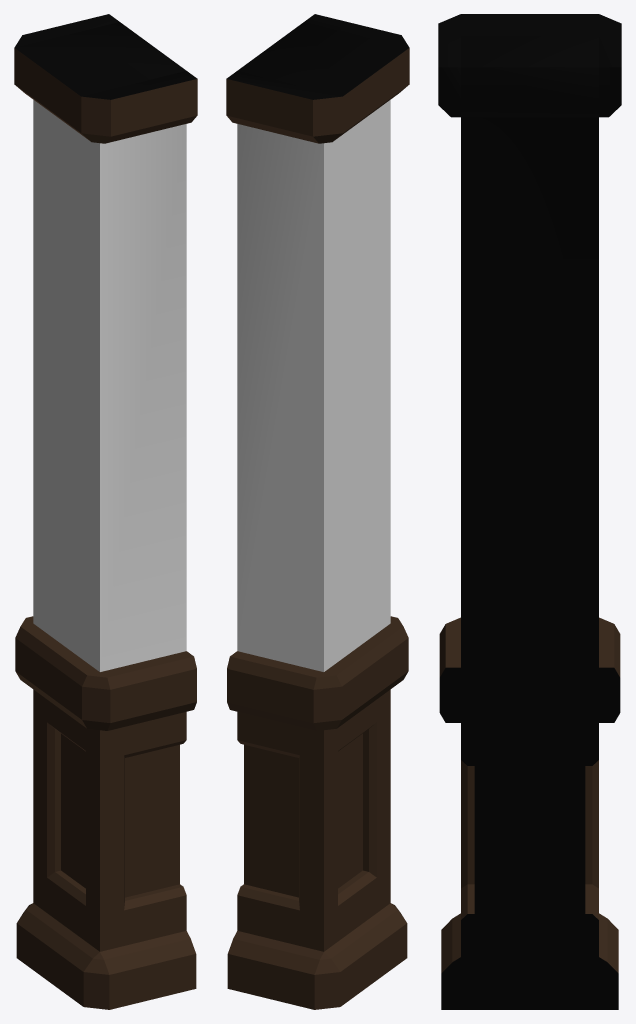
Rendered from Wall_01_Pillar_half.fbx.
3 renders of one model, left to right at view 1: azimuth 30°, elevation 25°; view 2: azimuth 150°, elevation 25°; view 3: azimuth 270°, elevation 25°, orthographic. The views are drawn at different scales.
Parts seen in each view (by area): view 1: Cube.214; view 2: Cube.214; view 3: Cube.214.
Boxes of the visible parts, x1=… form: Cube.214: x1=14, y1=14, x2=197, y2=1009; Cube.214: x1=226, y1=14, x2=409, y2=1009; Cube.214: x1=438, y1=14, x2=621, y2=1009.
Bounding box in the file's own units: 0.5303 × 0.3651 × 3.01.
